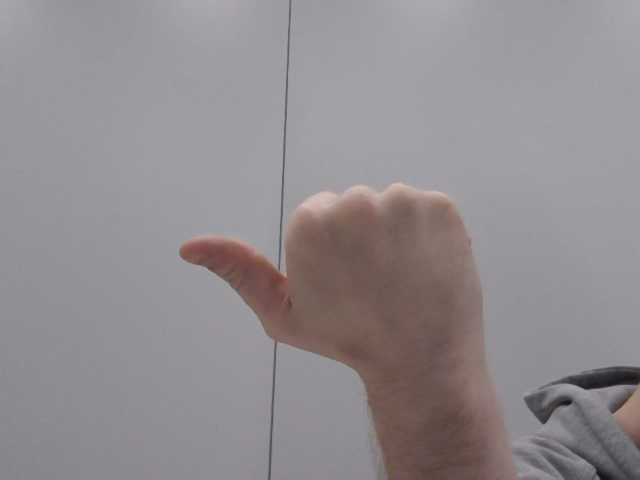right: (151, 165, 519, 401)
